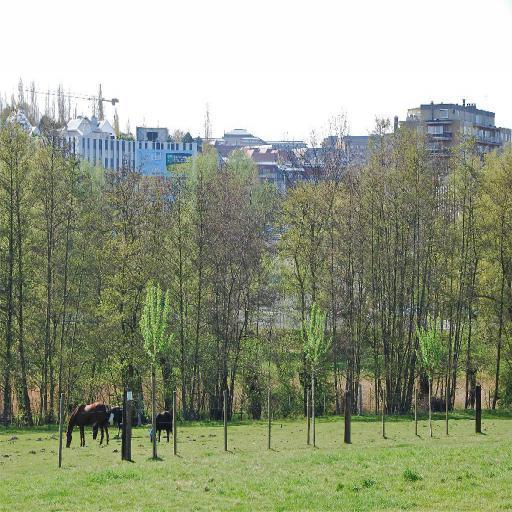horse: (64, 401, 114, 450), (92, 404, 124, 441), (148, 412, 174, 442)
